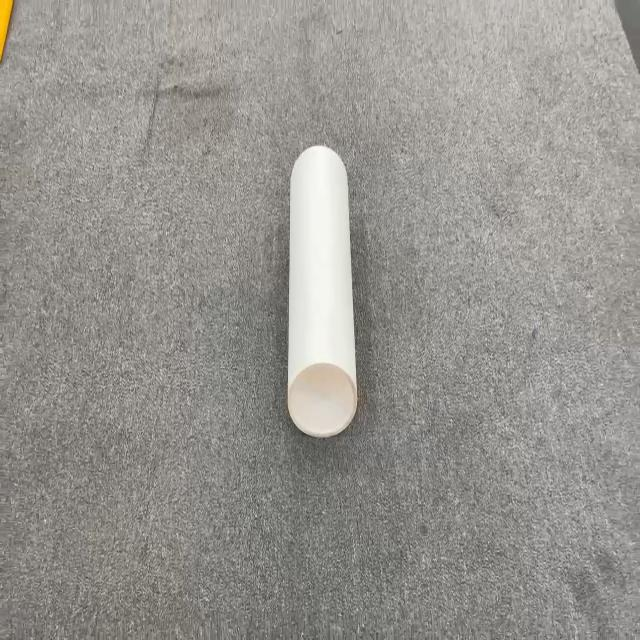coral: (286, 143, 358, 437)
